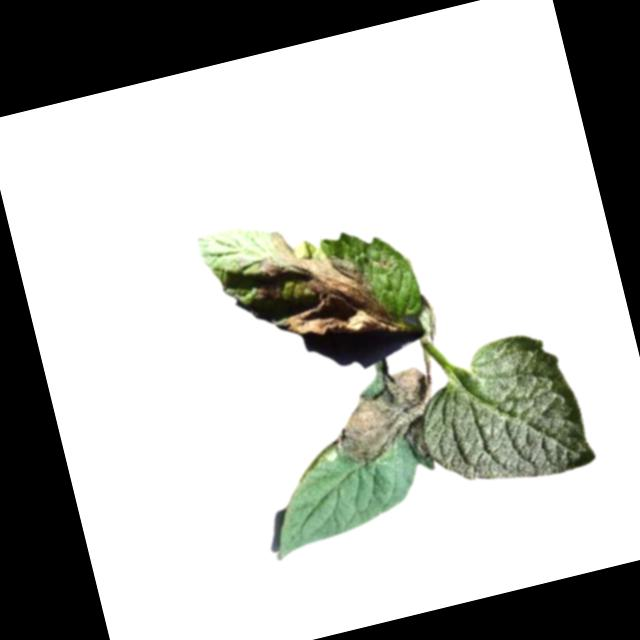Late_blight: (237, 206, 410, 365), (323, 363, 445, 472)
